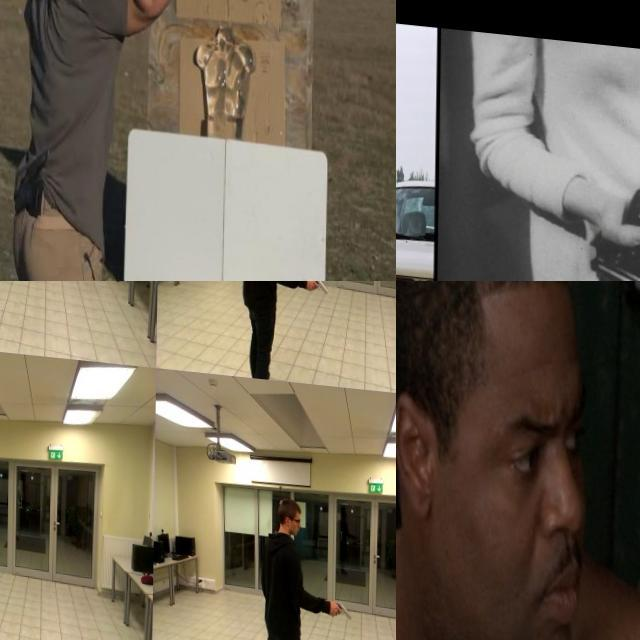-: (31, 0, 108, 79)
gun-knife-thesis - v11 Yolov5 augmented: (396, 399, 447, 640), (574, 163, 640, 281), (396, 151, 428, 264), (328, 584, 353, 608), (0, 553, 12, 580), (303, 281, 327, 293), (0, 281, 11, 293)
